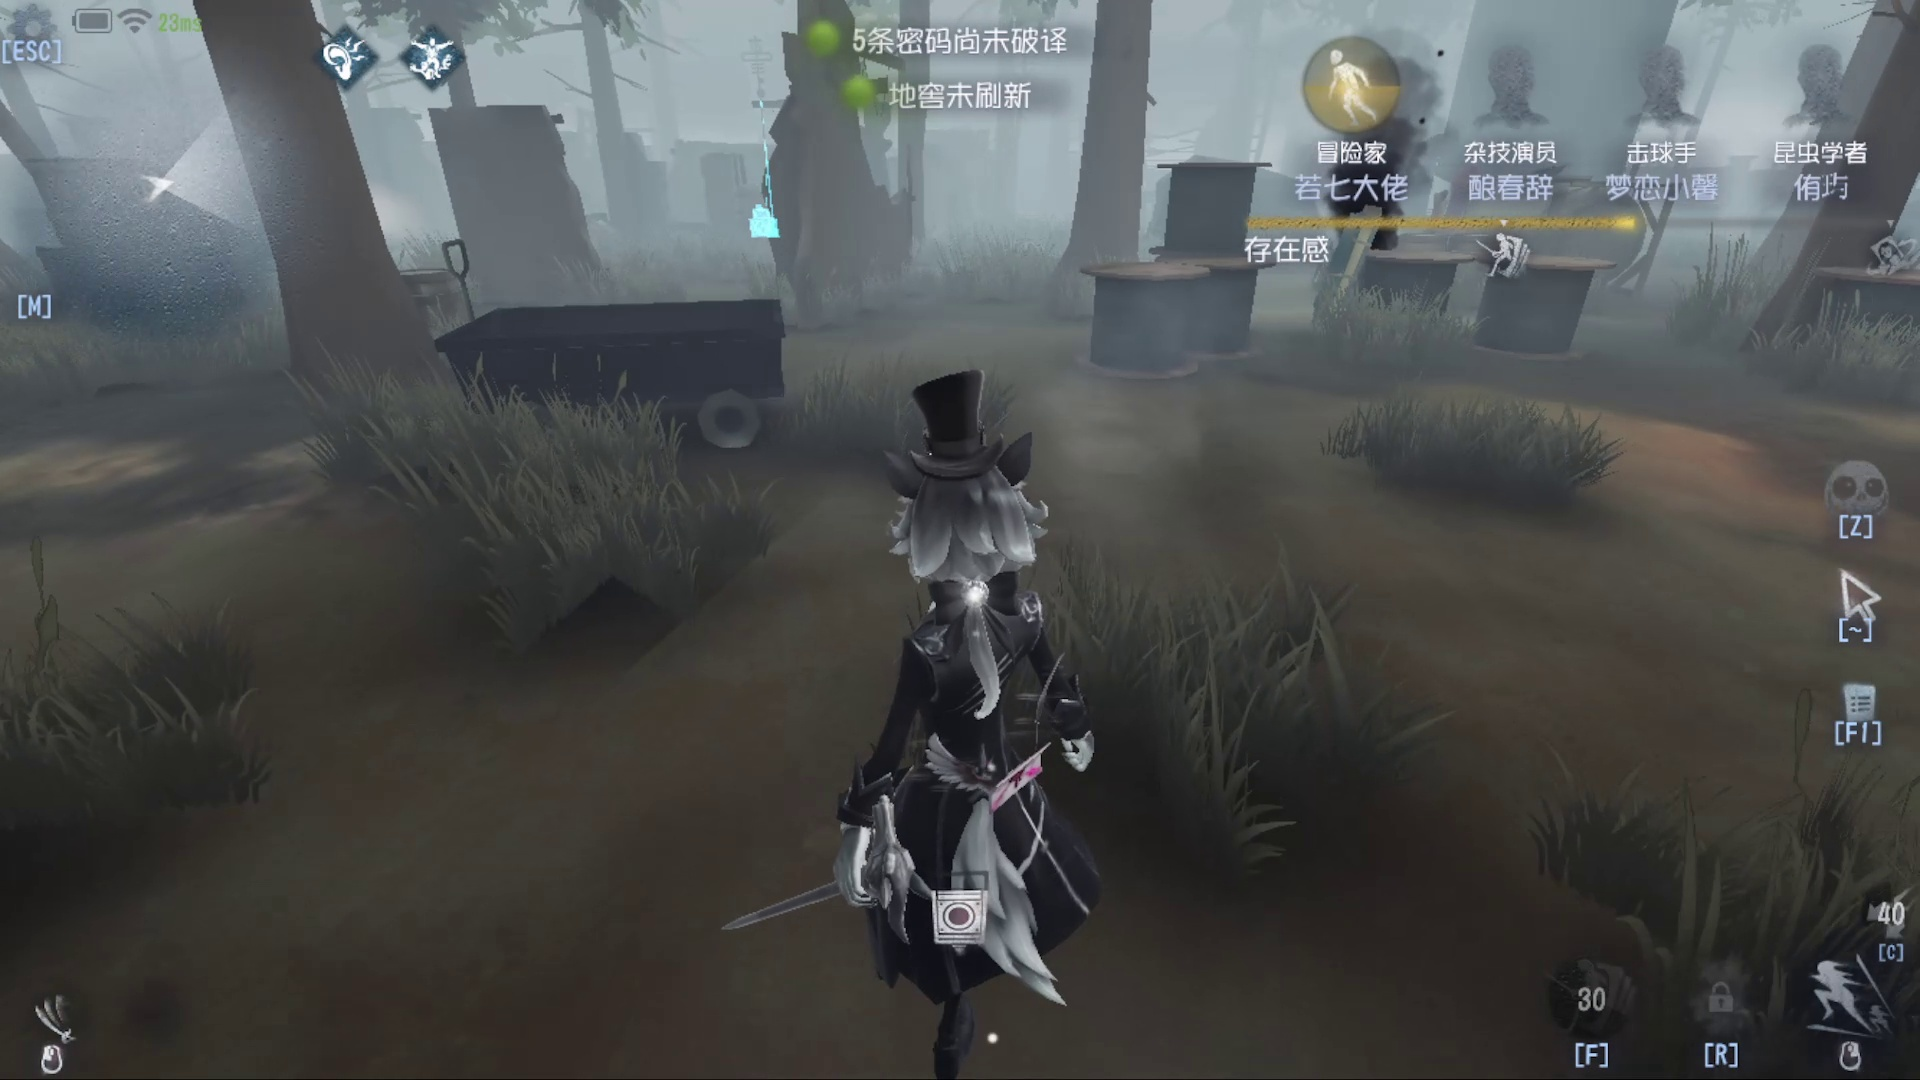密码机: (749, 37, 808, 261)
木板: (1309, 190, 1364, 313)
